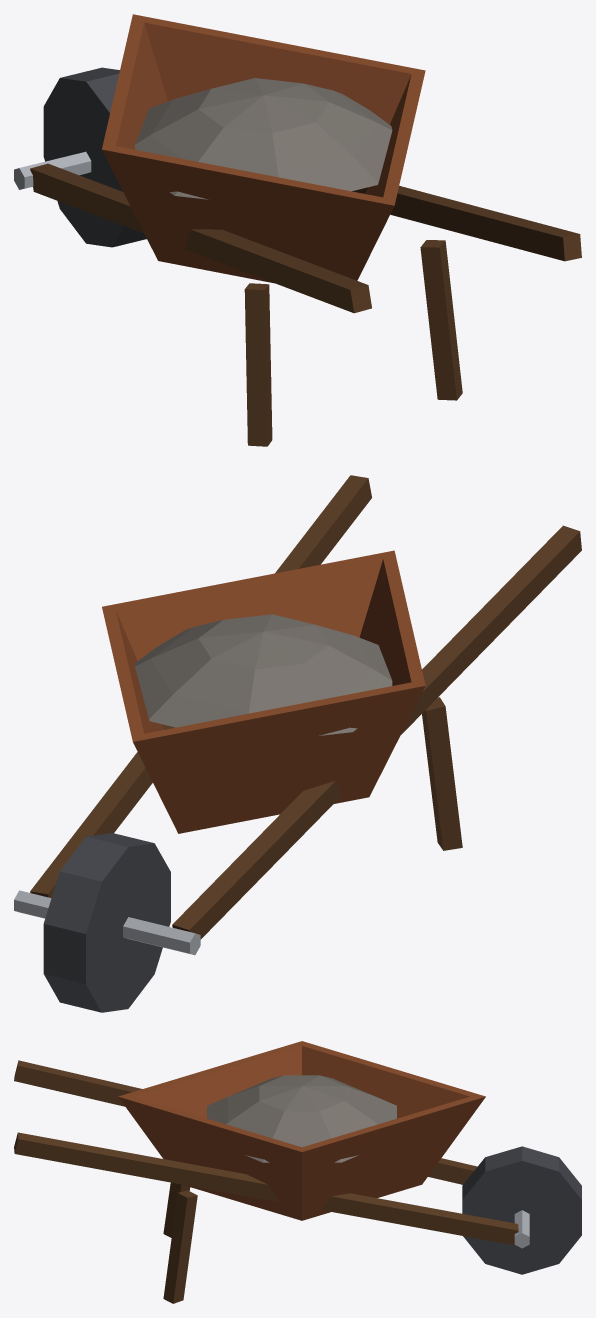
File: mine_wheelbarrow.glb
The picture shows the model from 3 angles, top to bottom: view 1: azimuth 30°, elevation 25°; view 2: azimuth 150°, elevation 25°; view 3: azimuth 270°, elevation 25°; orthographic projection. The views are drawn at different scales.
Visible parts, largest first — view 1: mine_wheelbarrow; view 2: mine_wheelbarrow; view 3: mine_wheelbarrow.
Boxes of the visible parts, box(x1,y1,x2,y2) form: mine_wheelbarrow: box(14, 14, 581, 446); mine_wheelbarrow: box(14, 475, 581, 1012); mine_wheelbarrow: box(14, 1041, 581, 1303).
Size of what is drawn, in the model's own units: 0.92 by 0.7 by 1.99.
